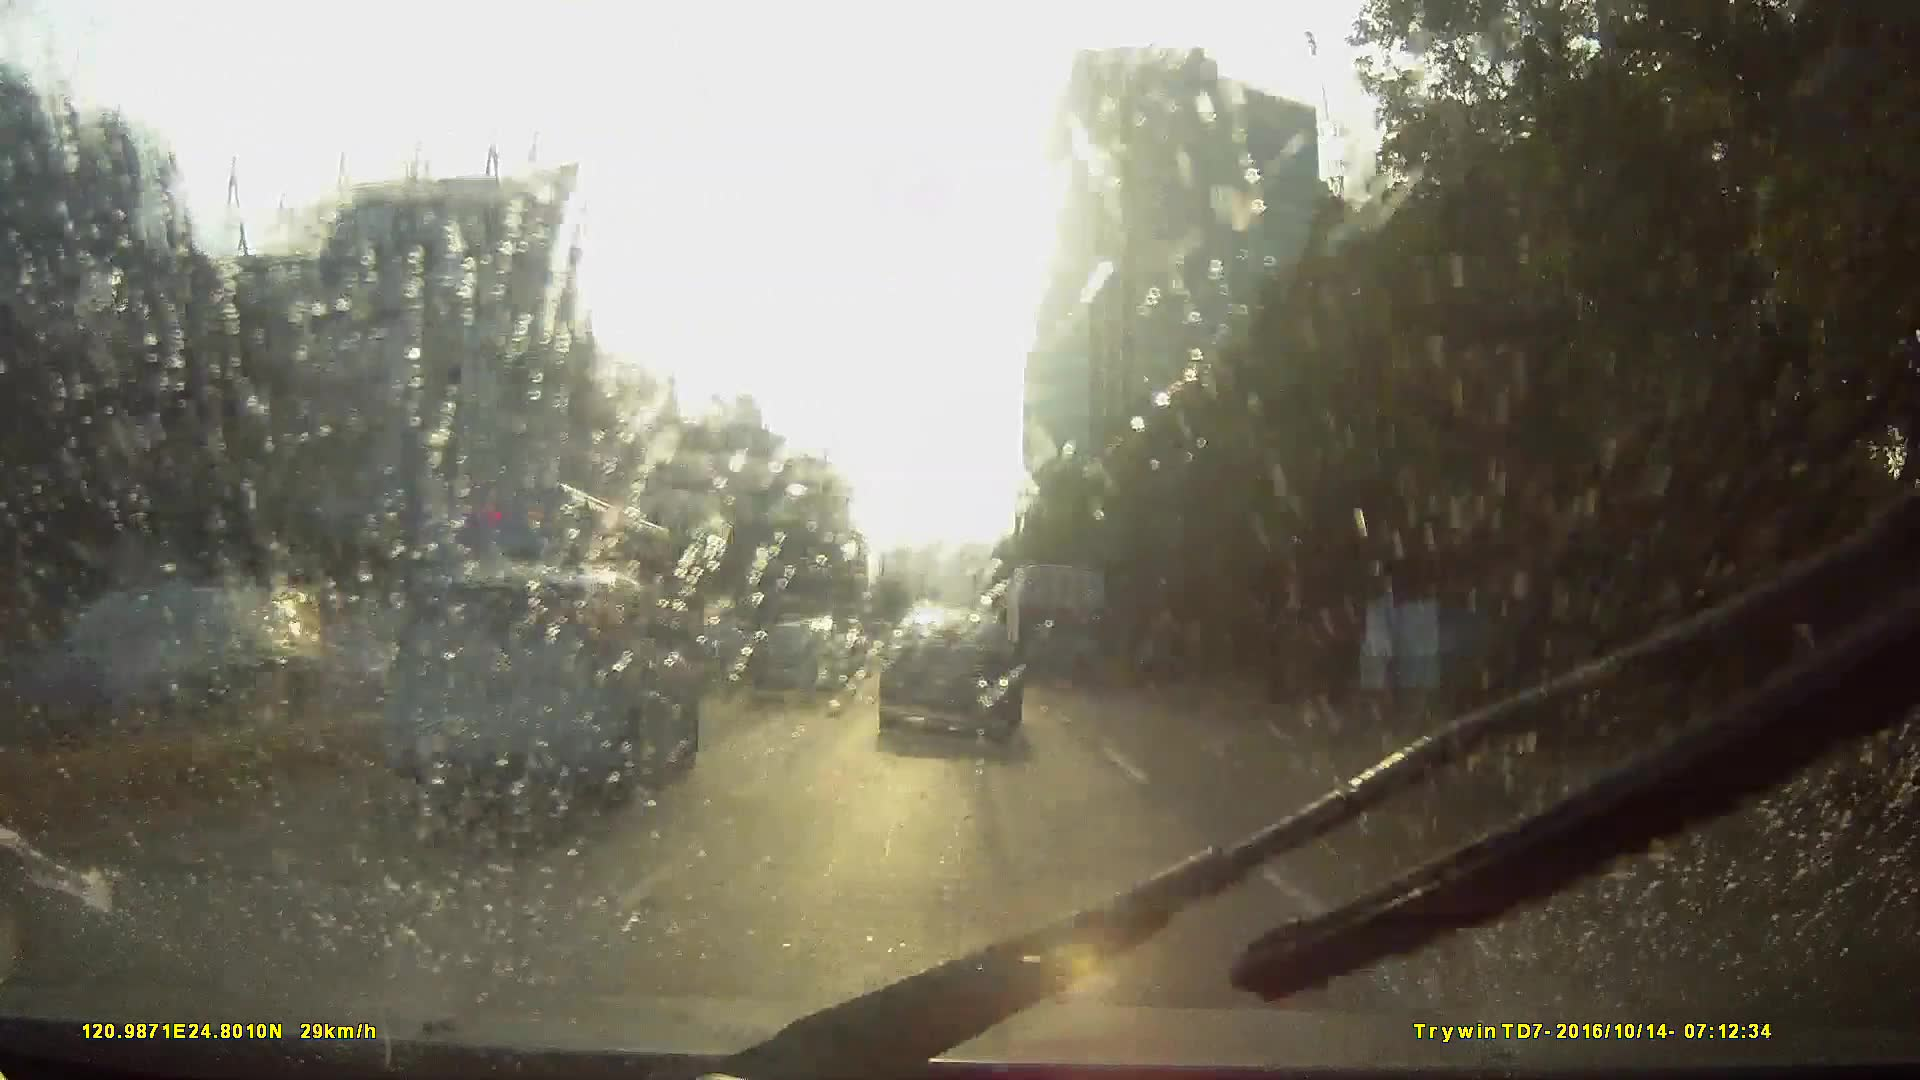vehicle: (251, 556, 684, 868), (392, 553, 702, 793), (381, 473, 711, 699), (880, 603, 1021, 752), (1000, 560, 1105, 686), (740, 617, 849, 703), (866, 638, 915, 687)
